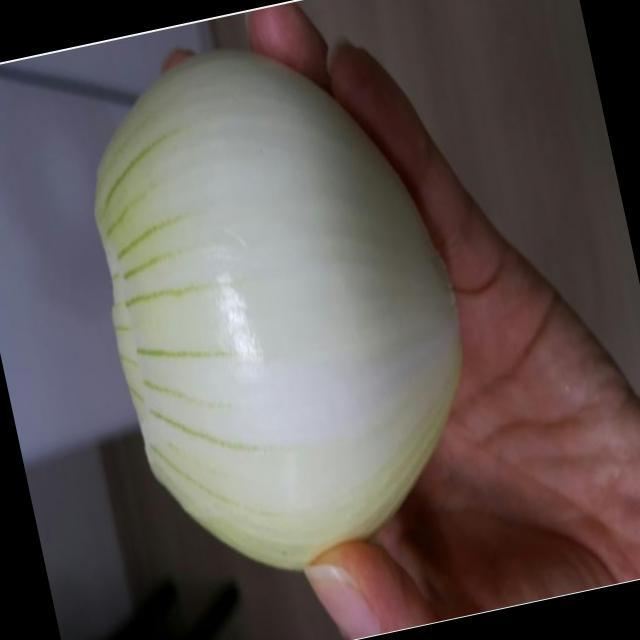Onion: (97, 50, 462, 575)
